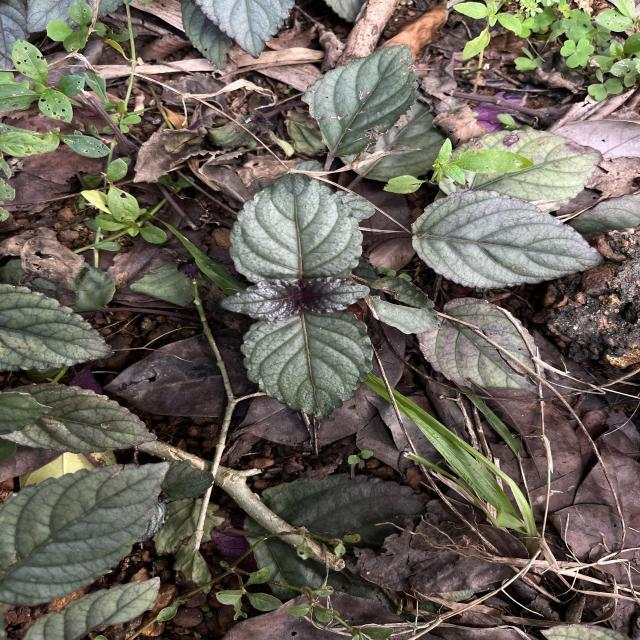Hemigraphis colorata: (0, 460, 172, 610), (408, 188, 606, 290), (239, 310, 375, 422), (228, 172, 366, 282), (298, 41, 422, 159), (0, 381, 160, 456), (0, 281, 117, 373), (216, 278, 302, 322), (301, 274, 372, 316)
